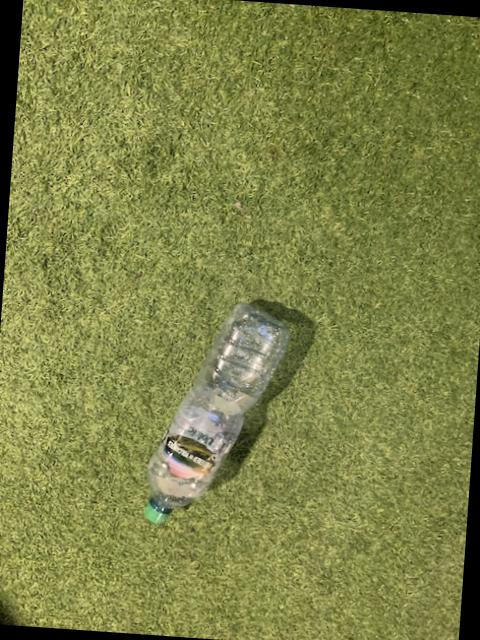plastic: (145, 305, 289, 523)
